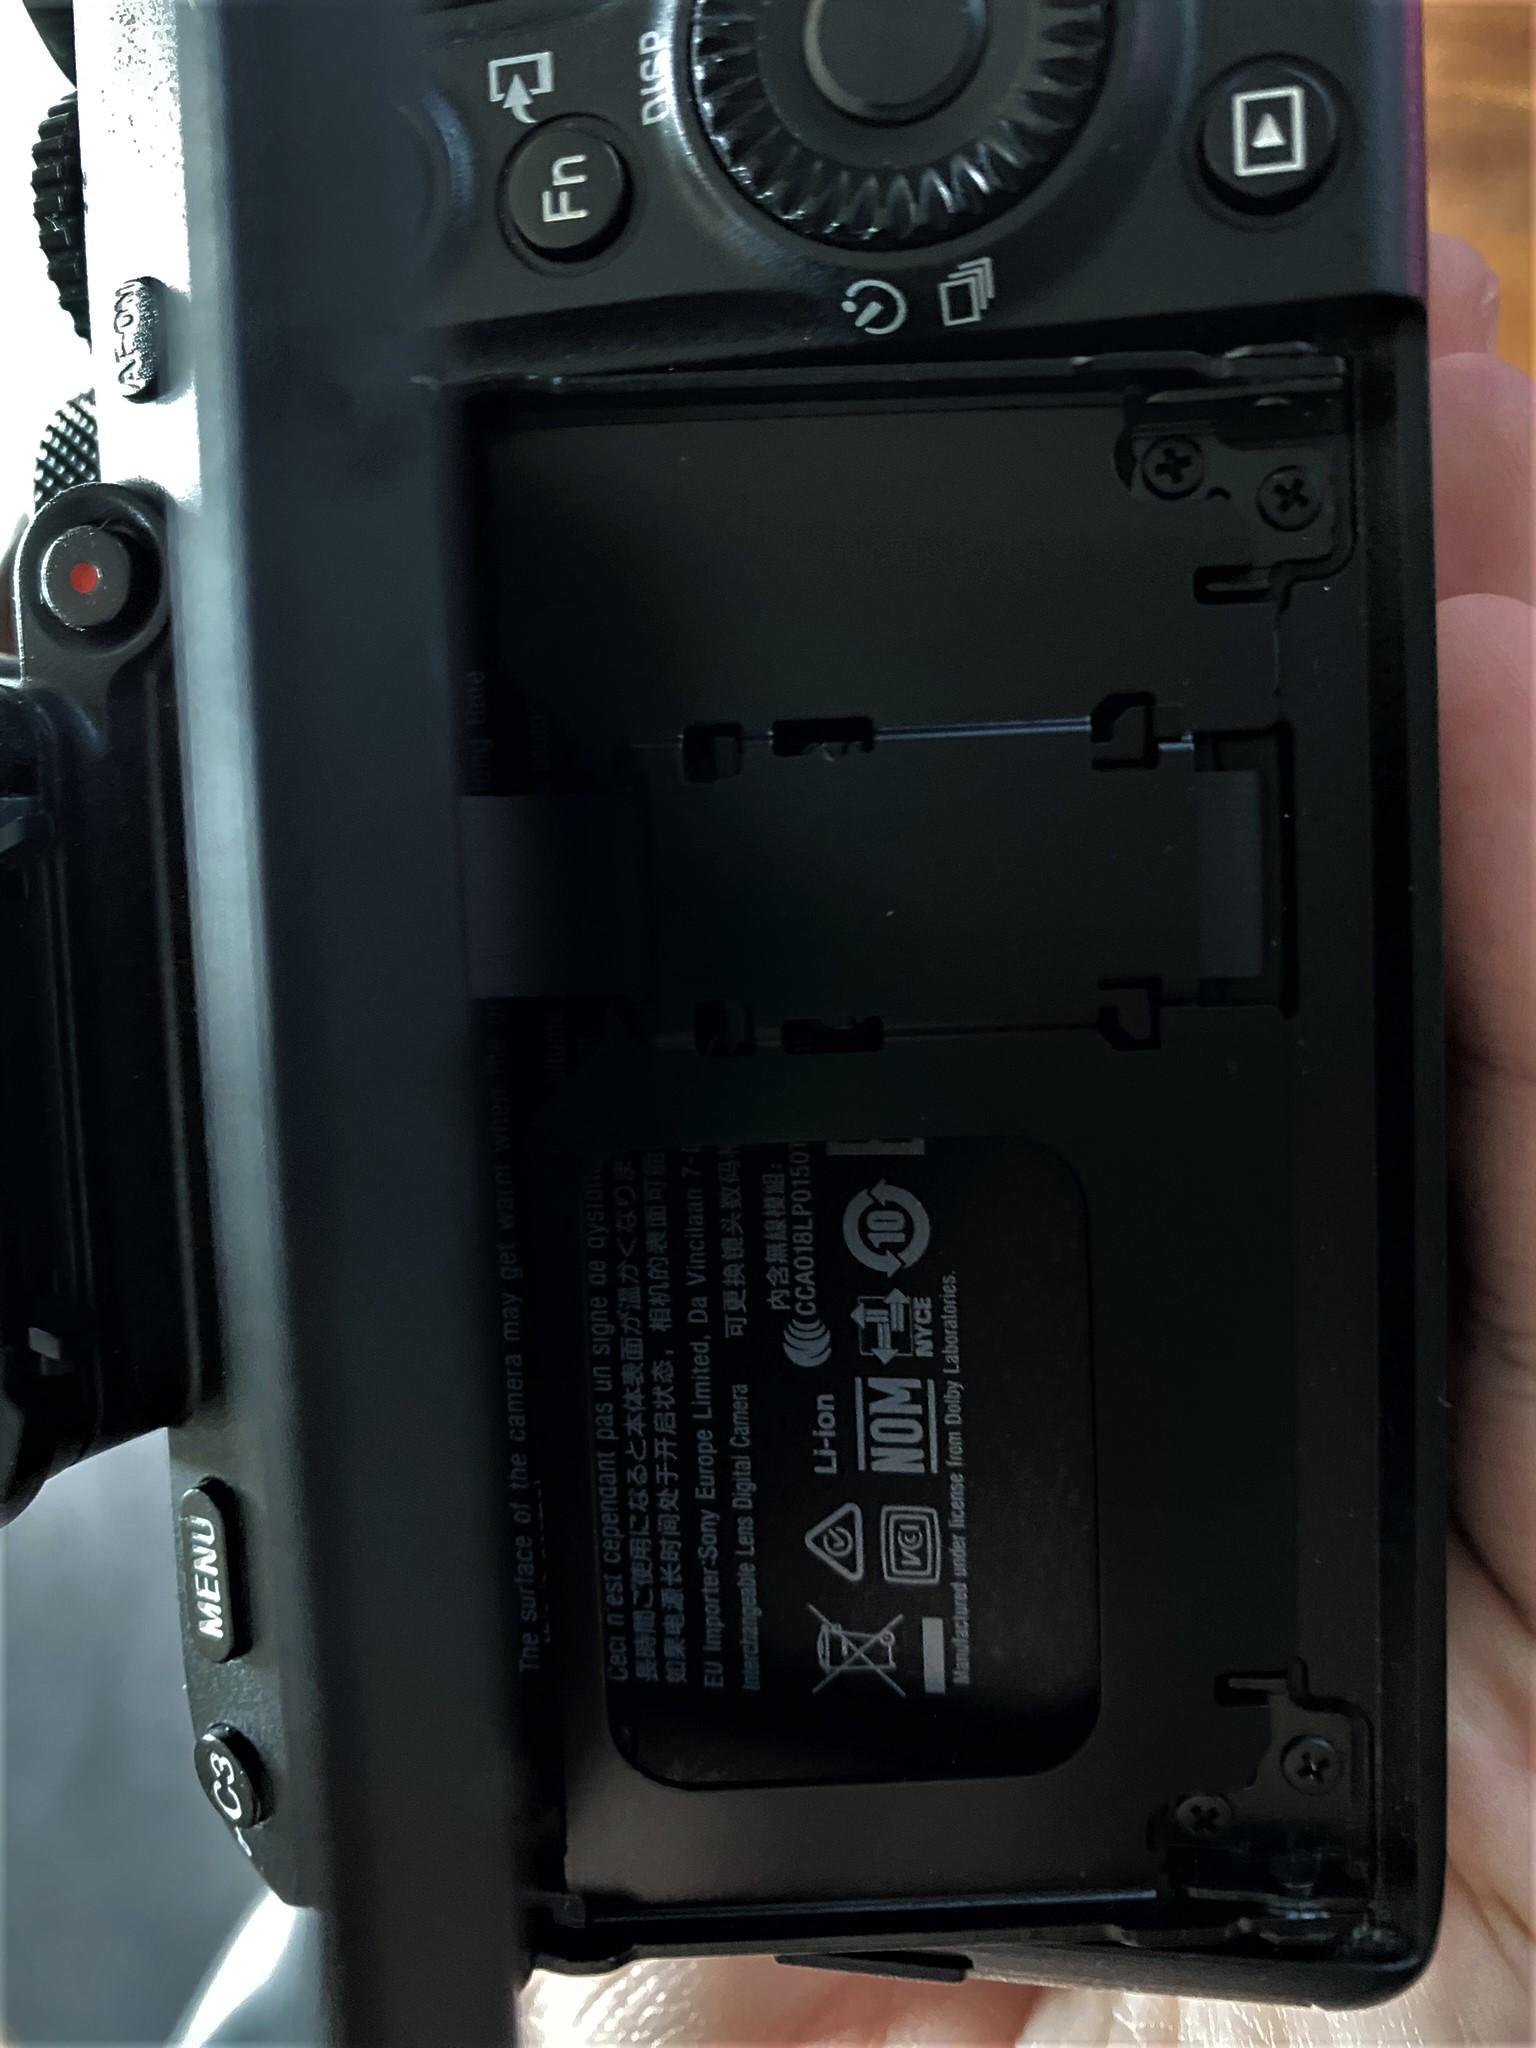PH: (1255, 460, 1326, 532), (1136, 432, 1210, 500), (1278, 1734, 1344, 1800), (1171, 1792, 1234, 1843)
